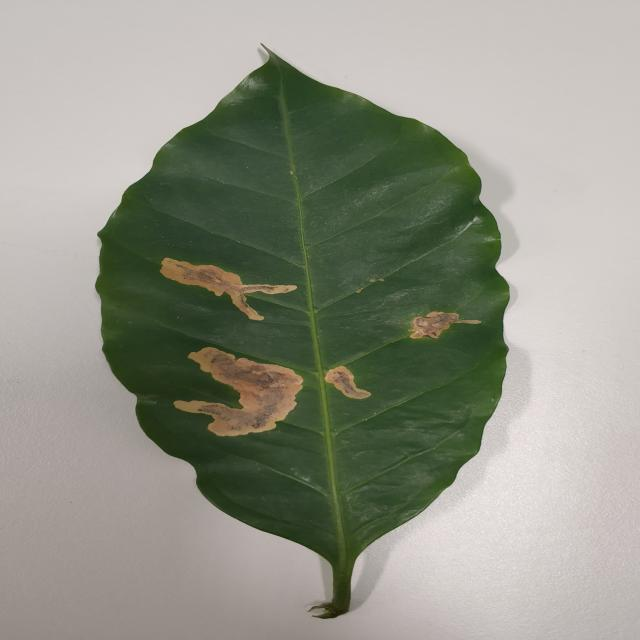Plaga-Minador: (94, 48, 512, 621)
